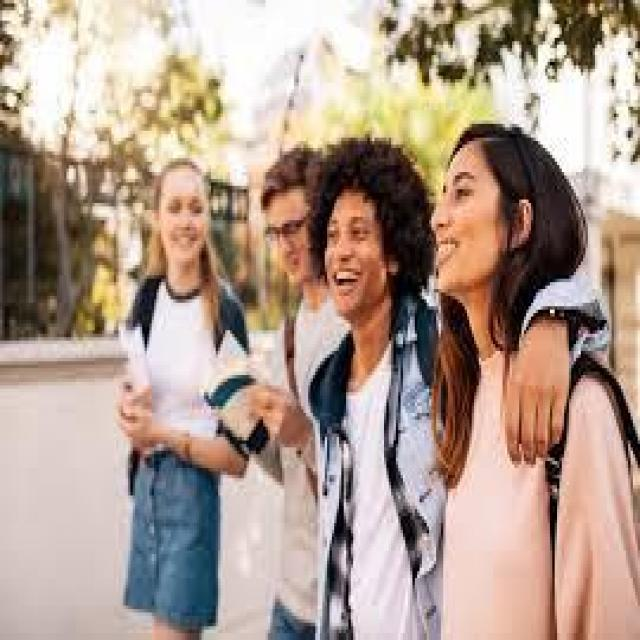person: (436, 96, 638, 620), (294, 128, 448, 636), (133, 134, 239, 613), (249, 113, 334, 630)
